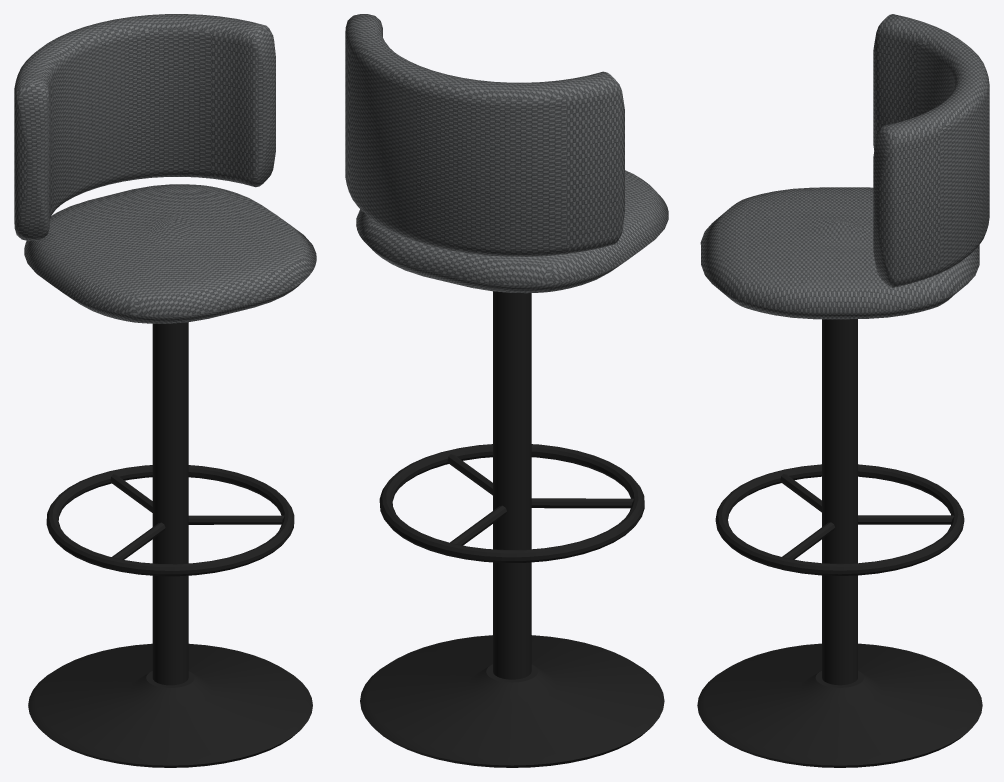
The model's file is taburete_giratorio_respaldo_75_gris.glb.
3 renders of one model, left to right at view 1: azimuth 30°, elevation 25°; view 2: azimuth 150°, elevation 25°; view 3: azimuth 270°, elevation 25°, orthographic. The views are drawn at different scales.
Visible parts, largest first — view 1: taburete_giratorio_respaldo_75_gris; view 2: taburete_giratorio_respaldo_75_gris; view 3: taburete_giratorio_respaldo_75_gris.
Boxes of the visible parts, x1,y1,x2,y2 form: taburete_giratorio_respaldo_75_gris: [14, 14, 316, 767]; taburete_giratorio_respaldo_75_gris: [345, 14, 668, 767]; taburete_giratorio_respaldo_75_gris: [697, 14, 989, 767].
Size of the model in its own units: 0.4286 by 1.01 by 0.42.
Materials: 2 (1 with a texture image).
